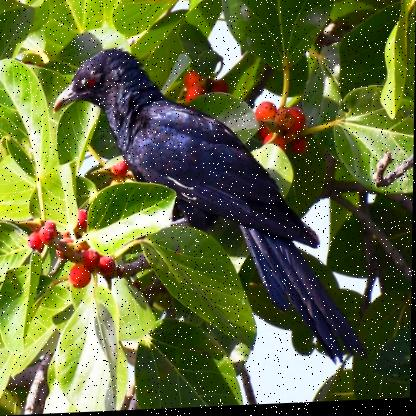Burung: (50, 40, 372, 377)
